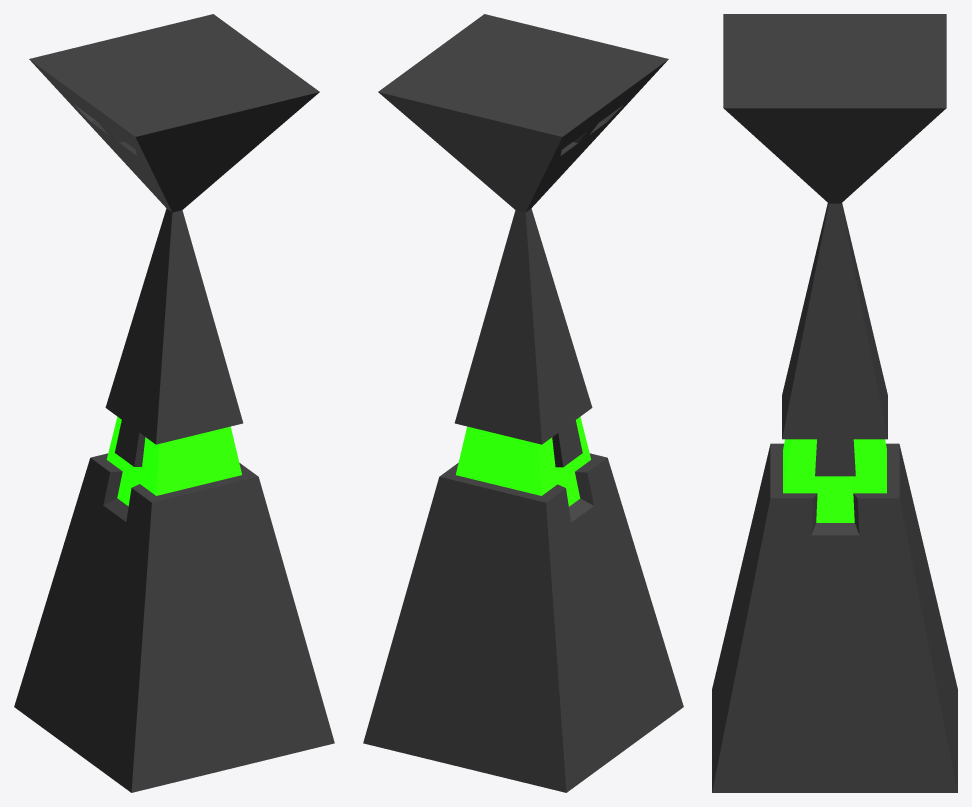
The model's file is enemy1.glb.
3 renders of one model, left to right at view 1: azimuth 30°, elevation 25°; view 2: azimuth 150°, elevation 25°; view 3: azimuth 270°, elevation 25°, orthographic. The views are drawn at different scales.
Visible parts, largest first — view 1: Alpha; view 2: Alpha; view 3: Alpha.
Part boxes in pixels (bbox=[...]): Alpha: bbox=[14, 14, 334, 792]; Alpha: bbox=[363, 14, 683, 792]; Alpha: bbox=[712, 14, 957, 792].
Size of the model in its own units: 2 by 6.1 by 2.
